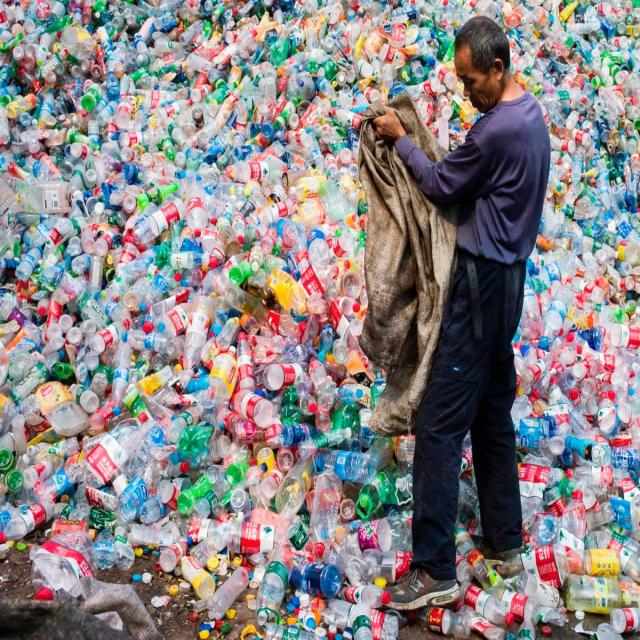plastic_bottle: (15, 8, 638, 626), (107, 170, 248, 482), (126, 36, 281, 145), (546, 535, 637, 621), (293, 447, 359, 564), (10, 169, 79, 229)
